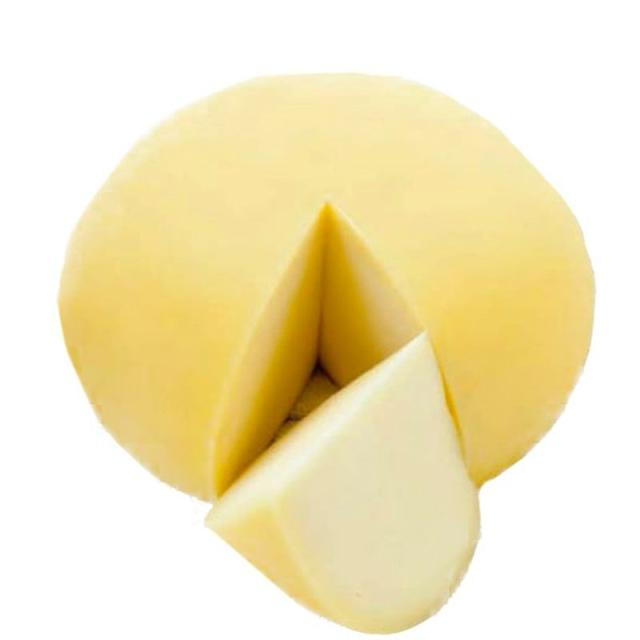Cheese: (63, 53, 598, 573), (200, 299, 492, 632)
